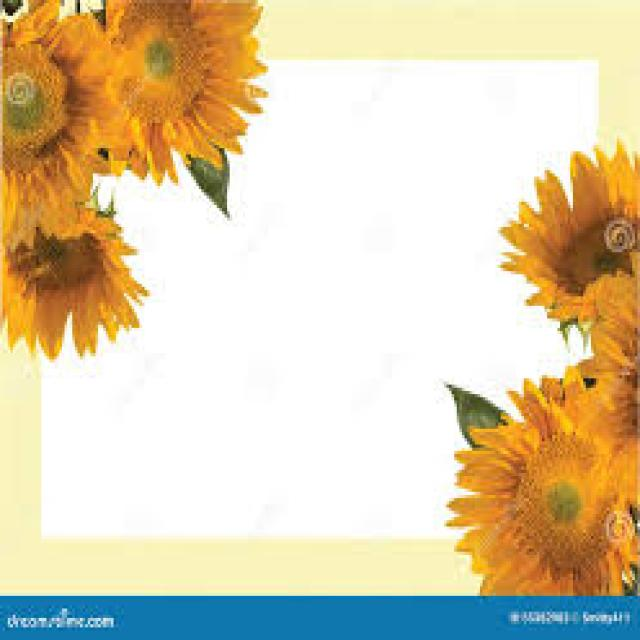sunflower: (435, 365, 638, 599), (0, 0, 160, 265), (75, 0, 276, 191), (494, 131, 640, 324), (0, 196, 157, 369), (560, 259, 640, 439)
